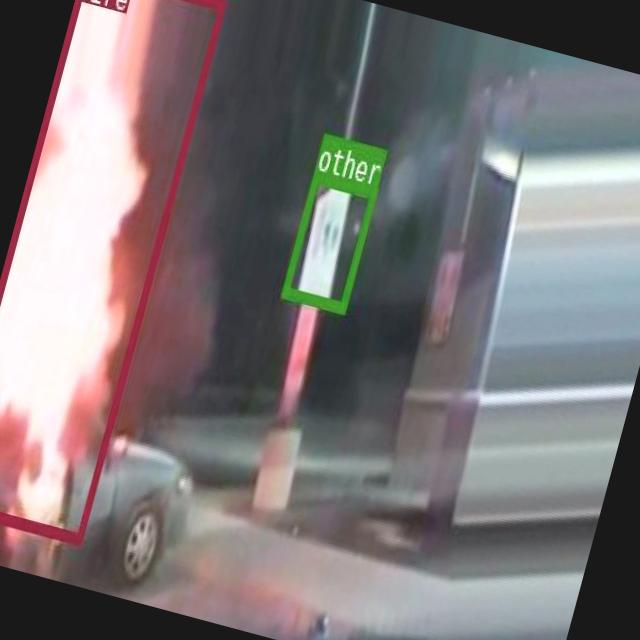fire: (0, 0, 226, 543)
